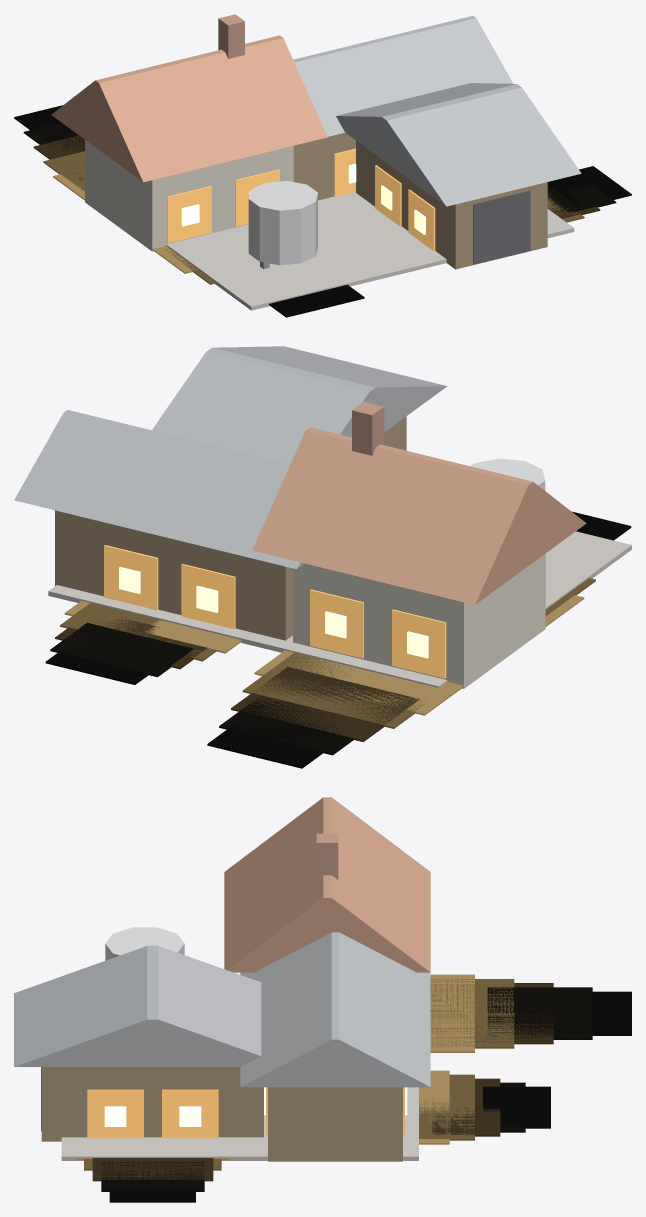
Rendered from plc_dairy_farm.glb.
3 renders of one model, top to bottom at view 1: azimuth 30°, elevation 25°; view 2: azimuth 150°, elevation 25°; view 3: azimuth 270°, elevation 25°, orthographic. The views are drawn at different scales.
Parts seen in each view (by area): view 1: plc_dairy_farm; view 2: plc_dairy_farm; view 3: plc_dairy_farm.
Part boxes in pixels (x1=…): plc_dairy_farm: x1=14, y1=14, x2=631, y2=317; plc_dairy_farm: x1=14, y1=346, x2=631, y2=768; plc_dairy_farm: x1=14, y1=797, x2=631, y2=1202.
Bounding box in the file's own units: 2.42 × 0.9486 × 2.65.
